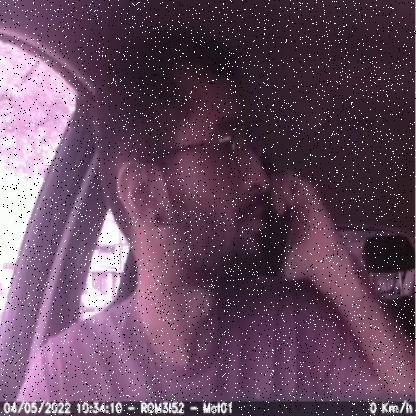phone: (251, 136, 294, 282)
